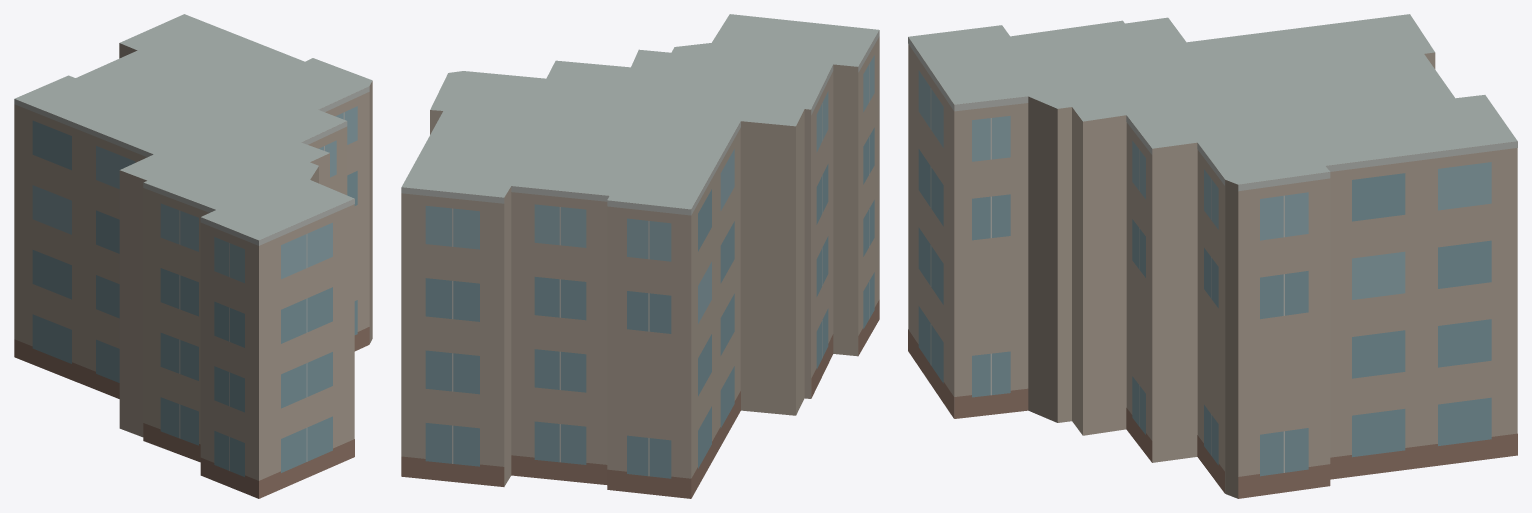
File: survey-upis-32754970.glb
The picture shows the model from 3 angles, left to right: view 1: azimuth 30°, elevation 25°; view 2: azimuth 150°, elevation 25°; view 3: azimuth 270°, elevation 25°; orthographic projection. The views are drawn at different scales.
Visible parts, largest first — view 1: survey-upis-32754970.tmp; view 2: survey-upis-32754970.tmp; view 3: survey-upis-32754970.tmp.
Part boxes in pixels (x1,y1,x2,y2): survey-upis-32754970.tmp: [14, 14, 372, 498]; survey-upis-32754970.tmp: [401, 14, 879, 498]; survey-upis-32754970.tmp: [908, 14, 1517, 498].
Bounding box in the file's own units: 13.52 × 11.6 × 20.41.
